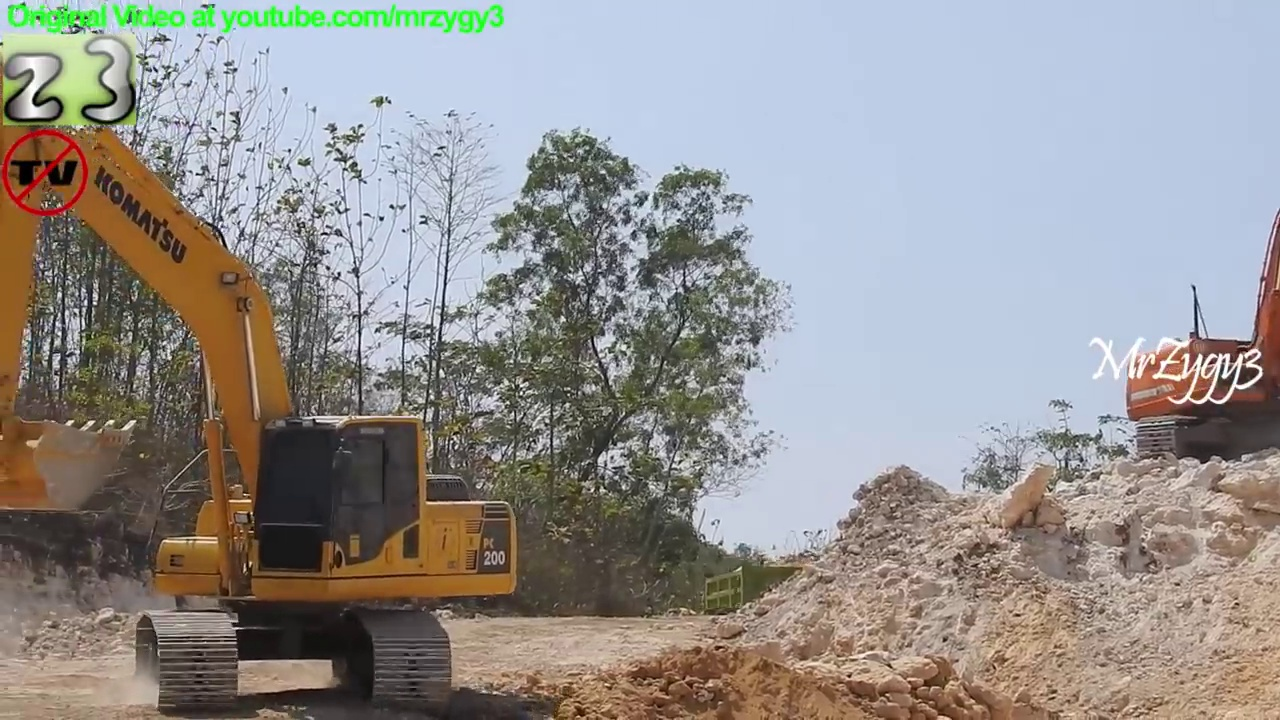excavator: (1, 40, 526, 716), (1123, 200, 1280, 473)
truck: (699, 558, 929, 654)
